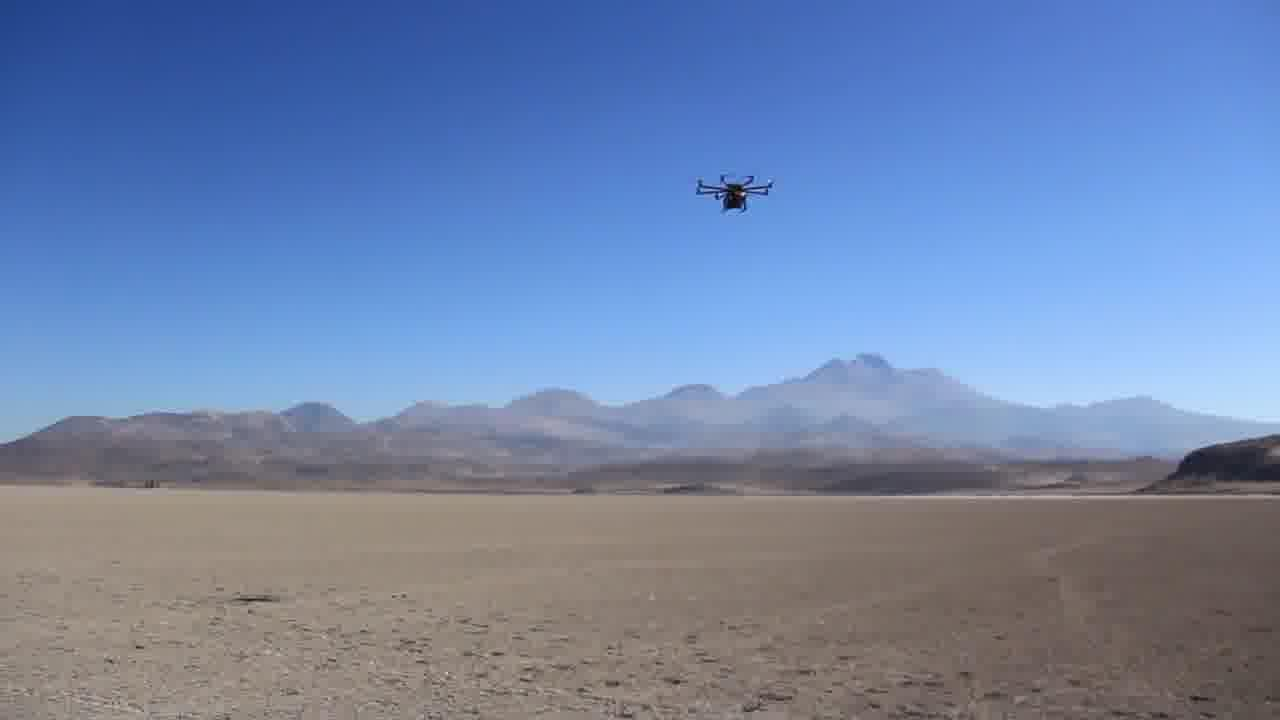drone: (690, 169, 777, 219)
